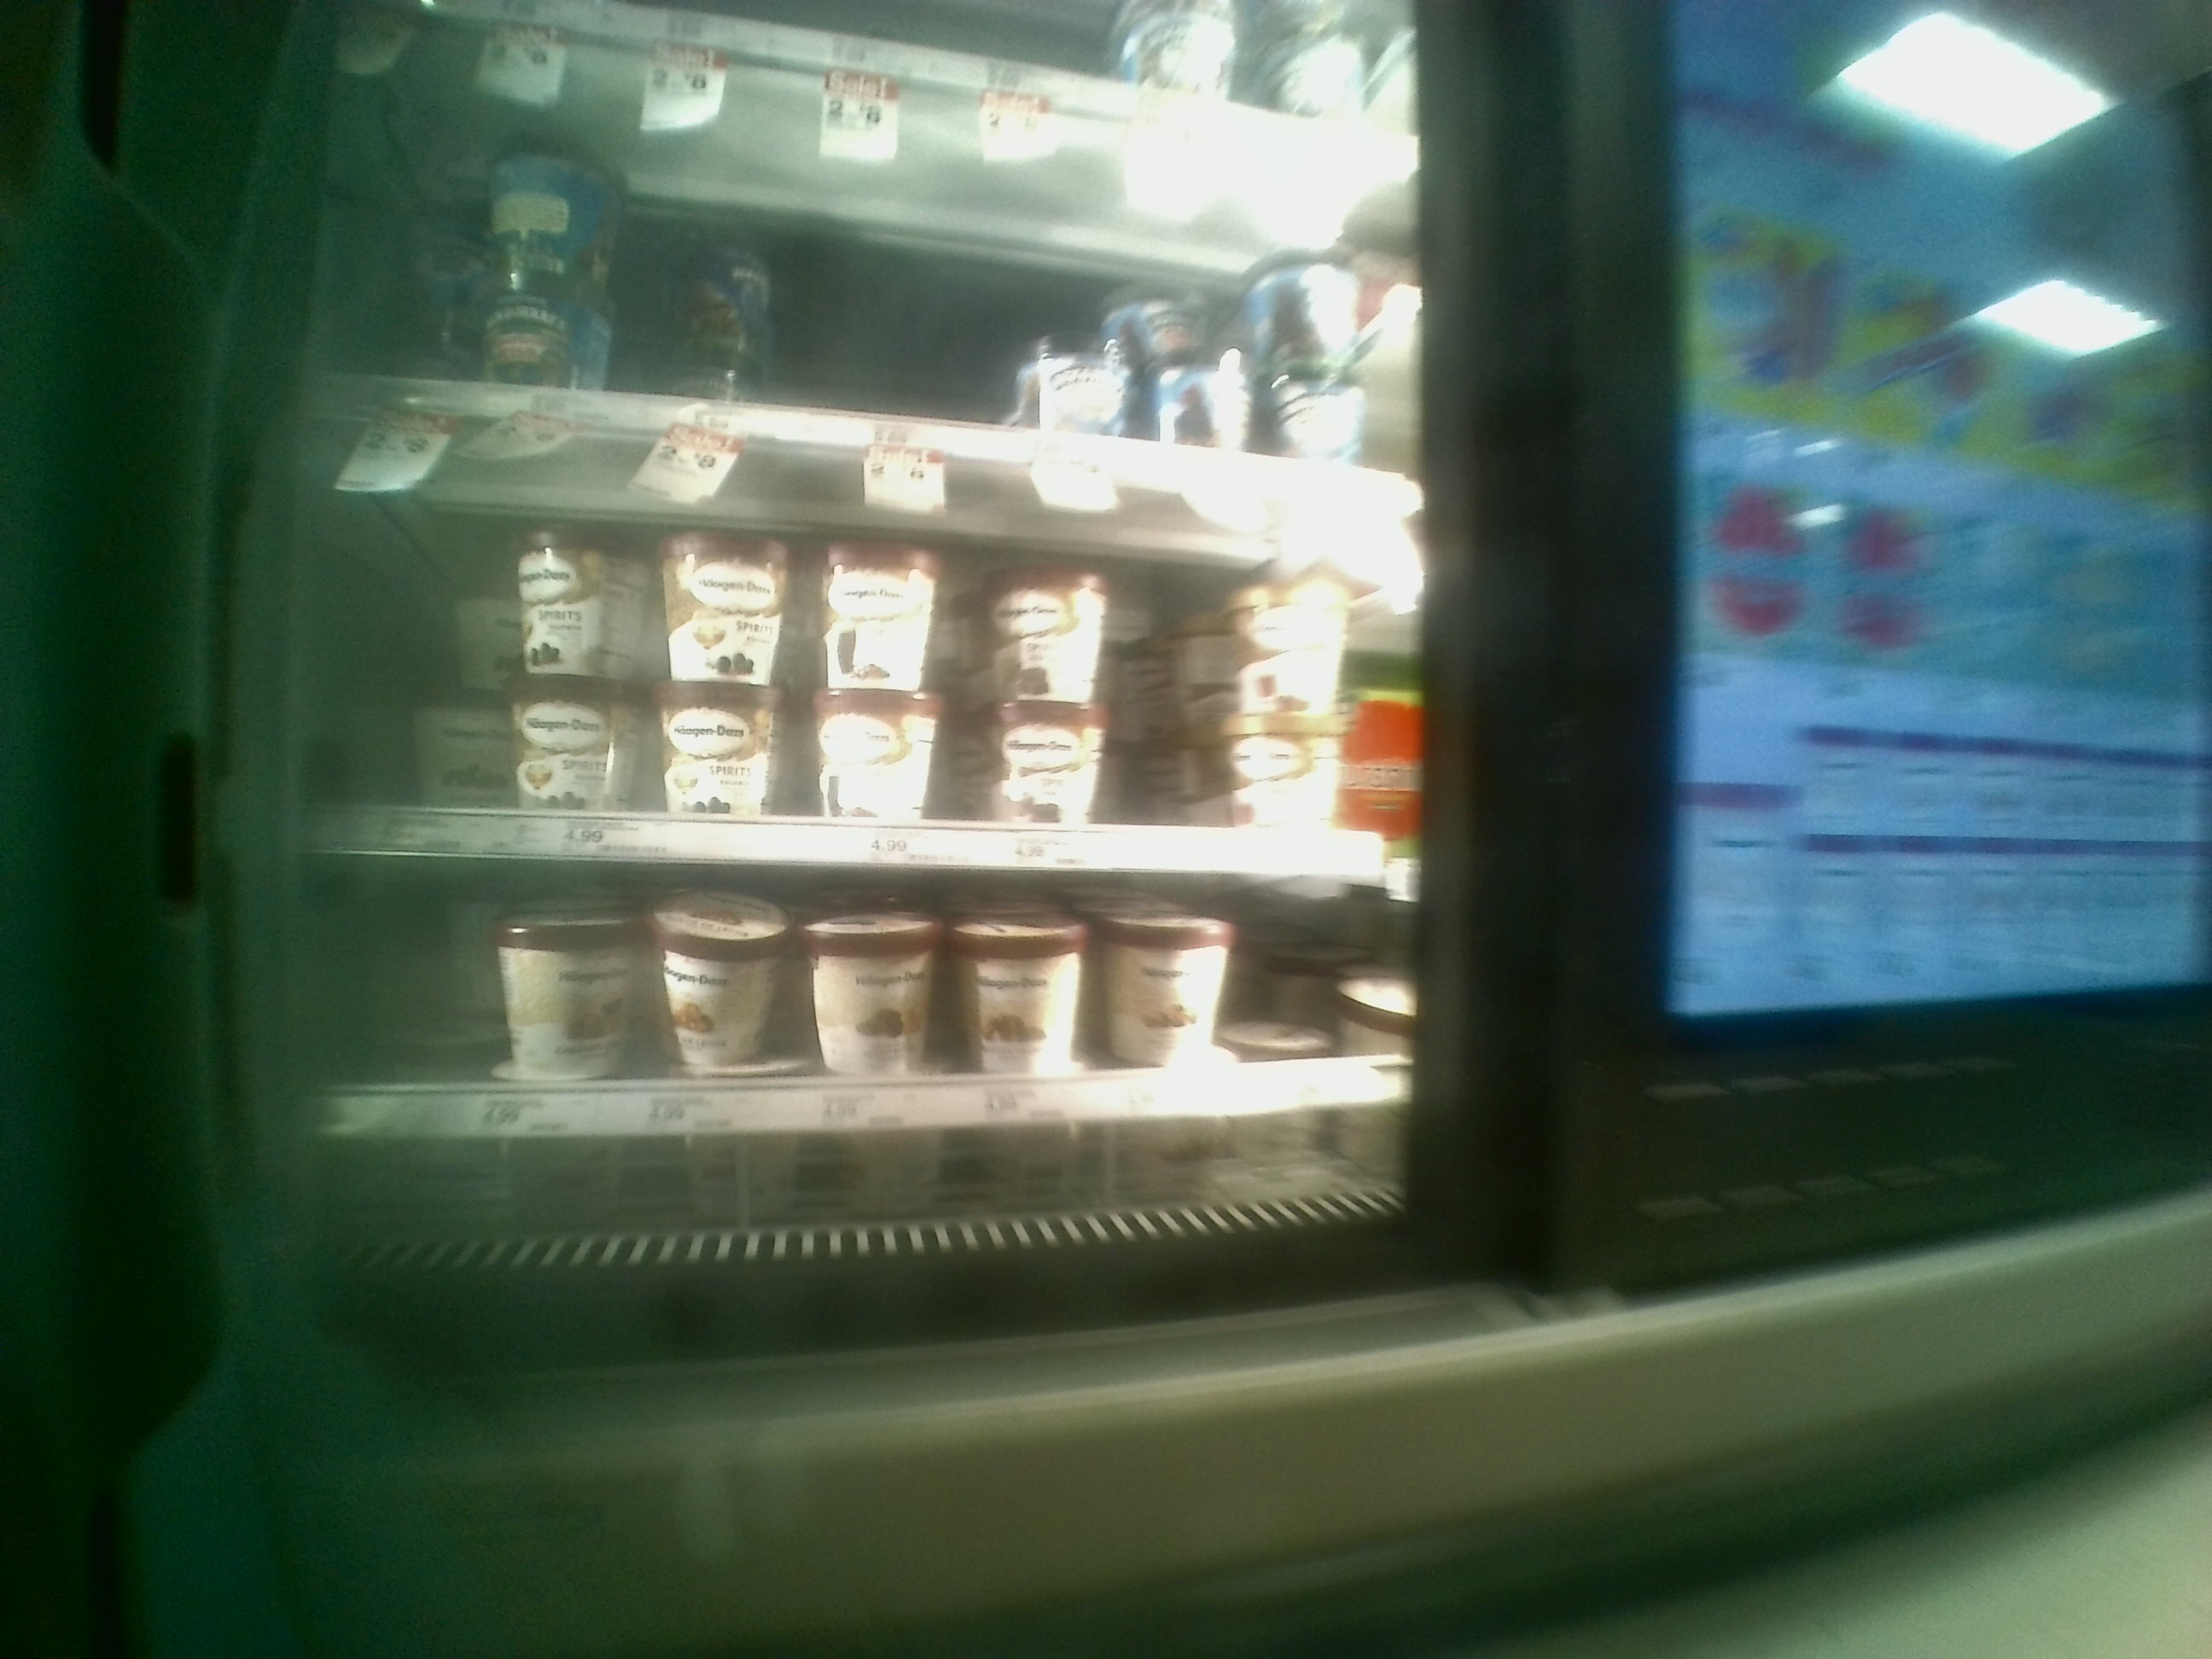shelf: (298, 410, 1428, 863), (303, 852, 1423, 1161)
